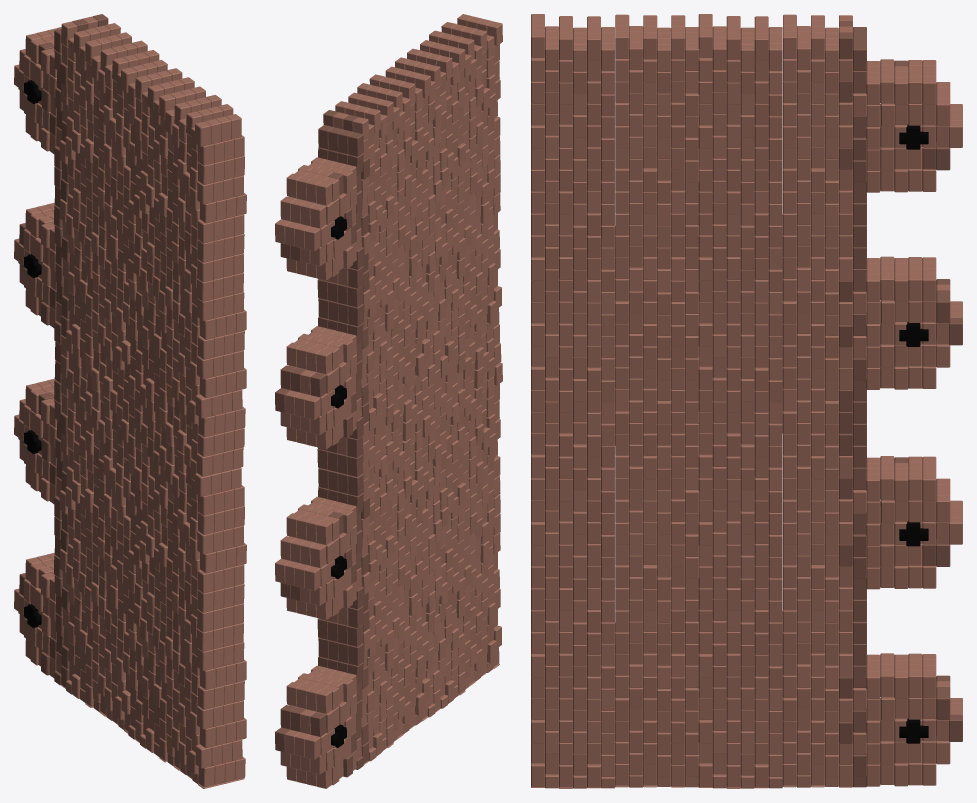
File: Wall Corner__2.fbx
3 views of the same model, side by side, from view 1: azimuth 30°, elevation 25°; view 2: azimuth 150°, elevation 25°; view 3: azimuth 270°, elevation 25° (orthographic). The views are drawn at different scales.
Visible parts, largest first — view 1: Wall1.005; view 2: Wall1.005; view 3: Wall1.005.
Part boxes in pixels (x1=…): Wall1.005: x1=14, y1=14, x2=246, y2=788; Wall1.005: x1=275, y1=14, x2=502, y2=788; Wall1.005: x1=531, y1=14, x2=962, y2=788.
Size of the model in its own units: 147 by 1890 by 986.
